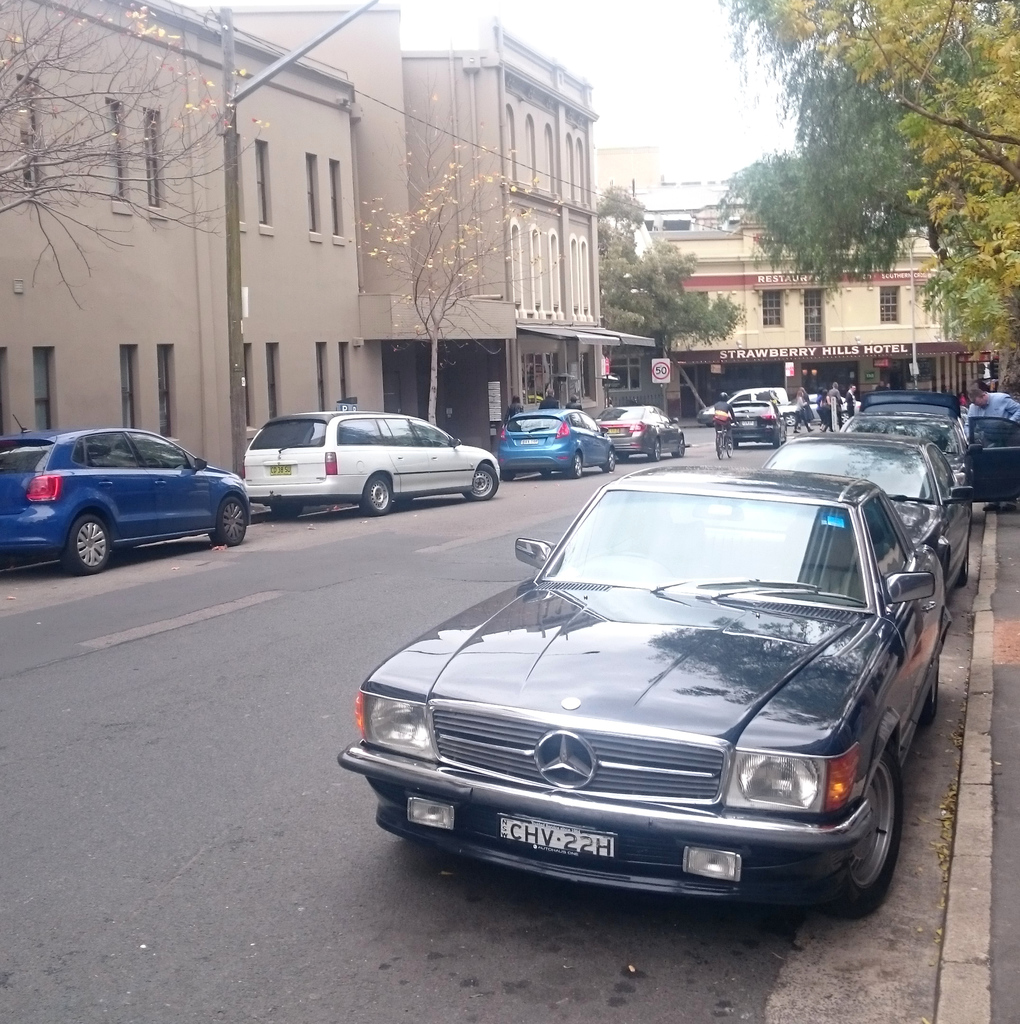Car: (353, 458, 958, 931), (0, 430, 253, 571), (765, 431, 972, 581), (243, 410, 498, 520), (489, 410, 613, 482), (597, 405, 683, 461), (713, 392, 781, 447), (697, 392, 783, 426)
